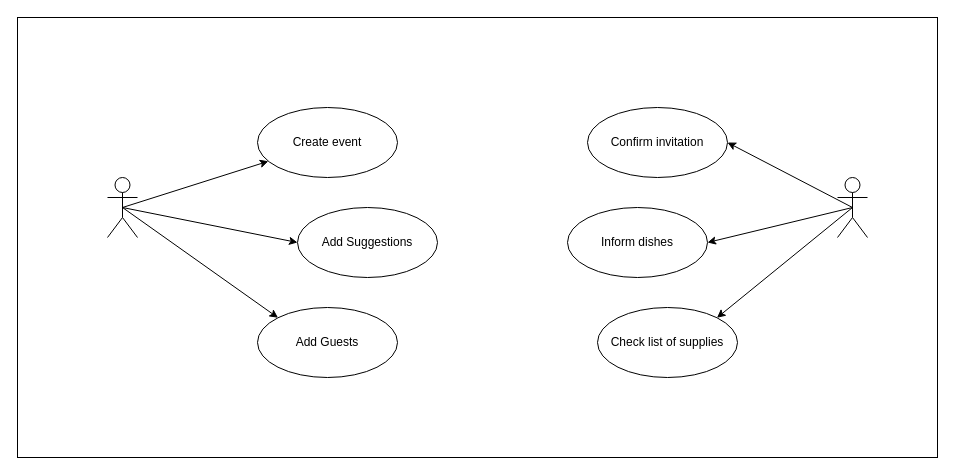
Image size: 955x475. Some labels were removed from this diagram. The shapes that lost their labels are listed below. From the top down, each one's centre as x and y in pixels, then its label:
At point (122, 207): "Organizer".
At point (852, 207): "Guest".
